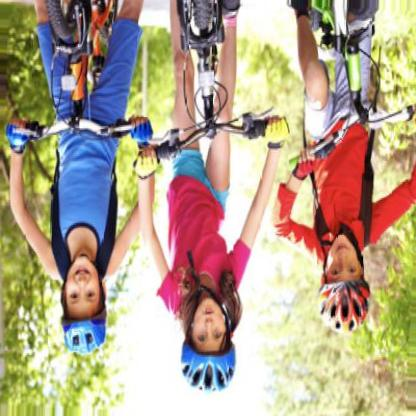with helmet: (179, 297, 238, 395), (59, 255, 113, 357), (318, 233, 371, 334)
